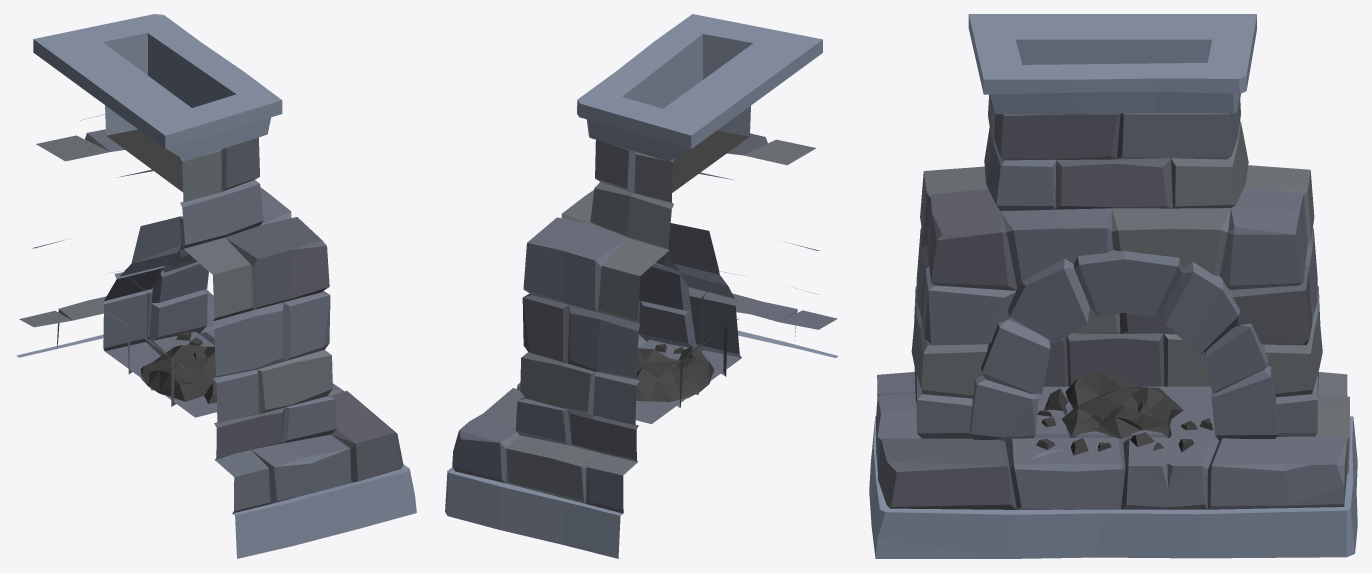
File: Forge_Furnace.gltf
3 renders of one model, left to right at view 1: azimuth 30°, elevation 25°; view 2: azimuth 150°, elevation 25°; view 3: azimuth 270°, elevation 25°, orthographic. The views are drawn at different scales.
Visible parts, largest first — view 1: Forge_Furnace2; view 2: Forge_Furnace2; view 3: Forge_Furnace2.
Boxes of the visible parts, left/top/right/bottom form: Forge_Furnace2: left=16, top=14, right=416, bottom=558; Forge_Furnace2: left=445, top=14, right=838, bottom=558; Forge_Furnace2: left=869, top=14, right=1357, bottom=558.
Size of the model in its own units: 0.4274 by 0.7777 by 0.7929.
Materials: 1 (1 with a texture image).
